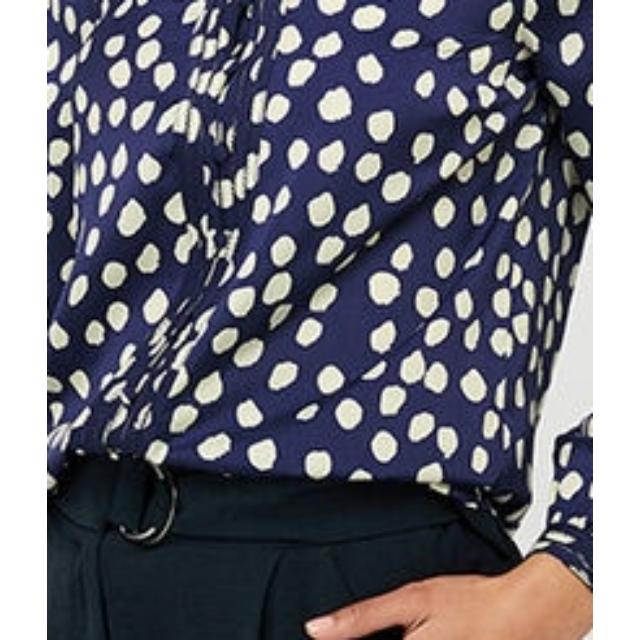polyester: (47, 0, 593, 494)
